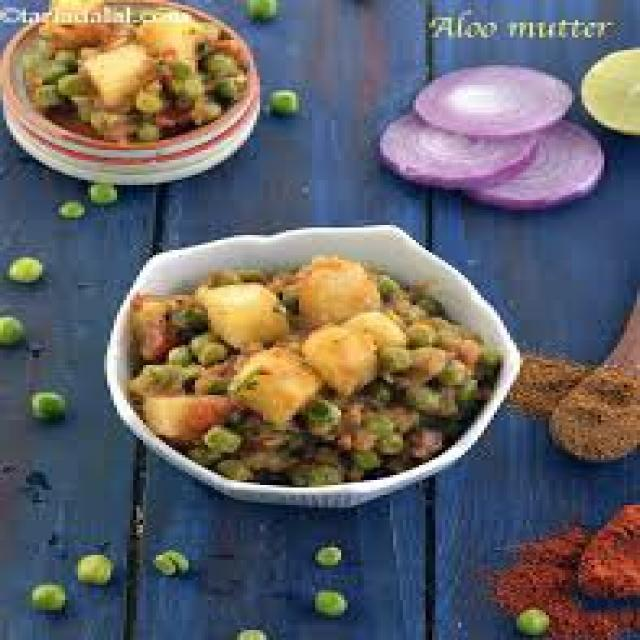Aloo Matar: (121, 246, 500, 484), (13, 0, 237, 157)
